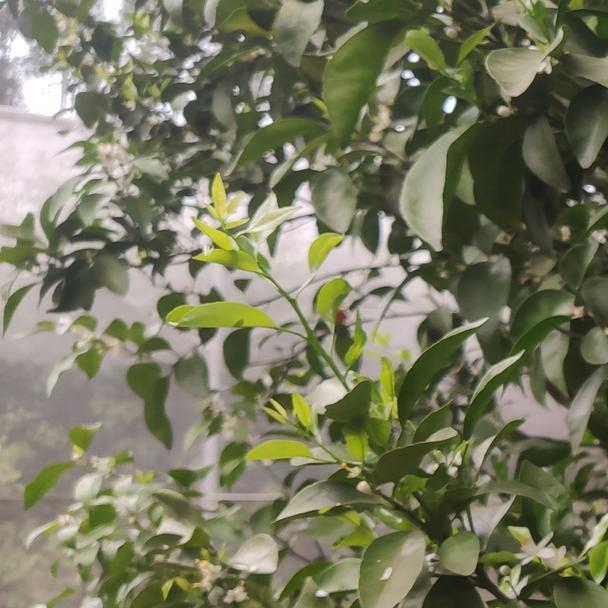shoot: (200, 185, 345, 363), (259, 387, 356, 481)
